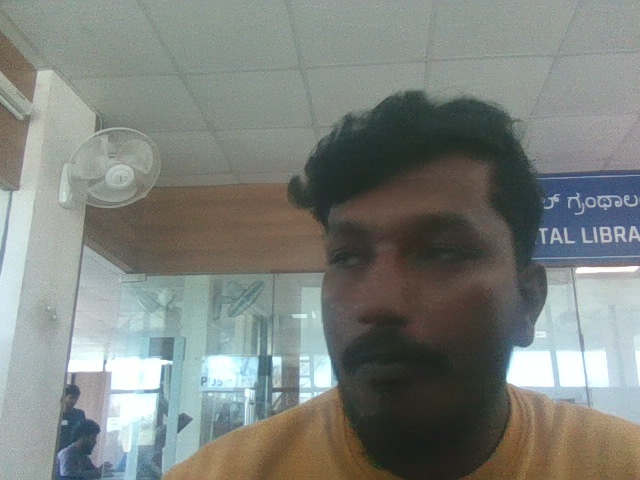real: (292, 60, 562, 442)
